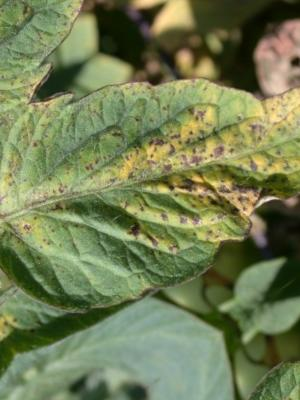Tomato leaf bacterial spot: (0, 0, 300, 374)
